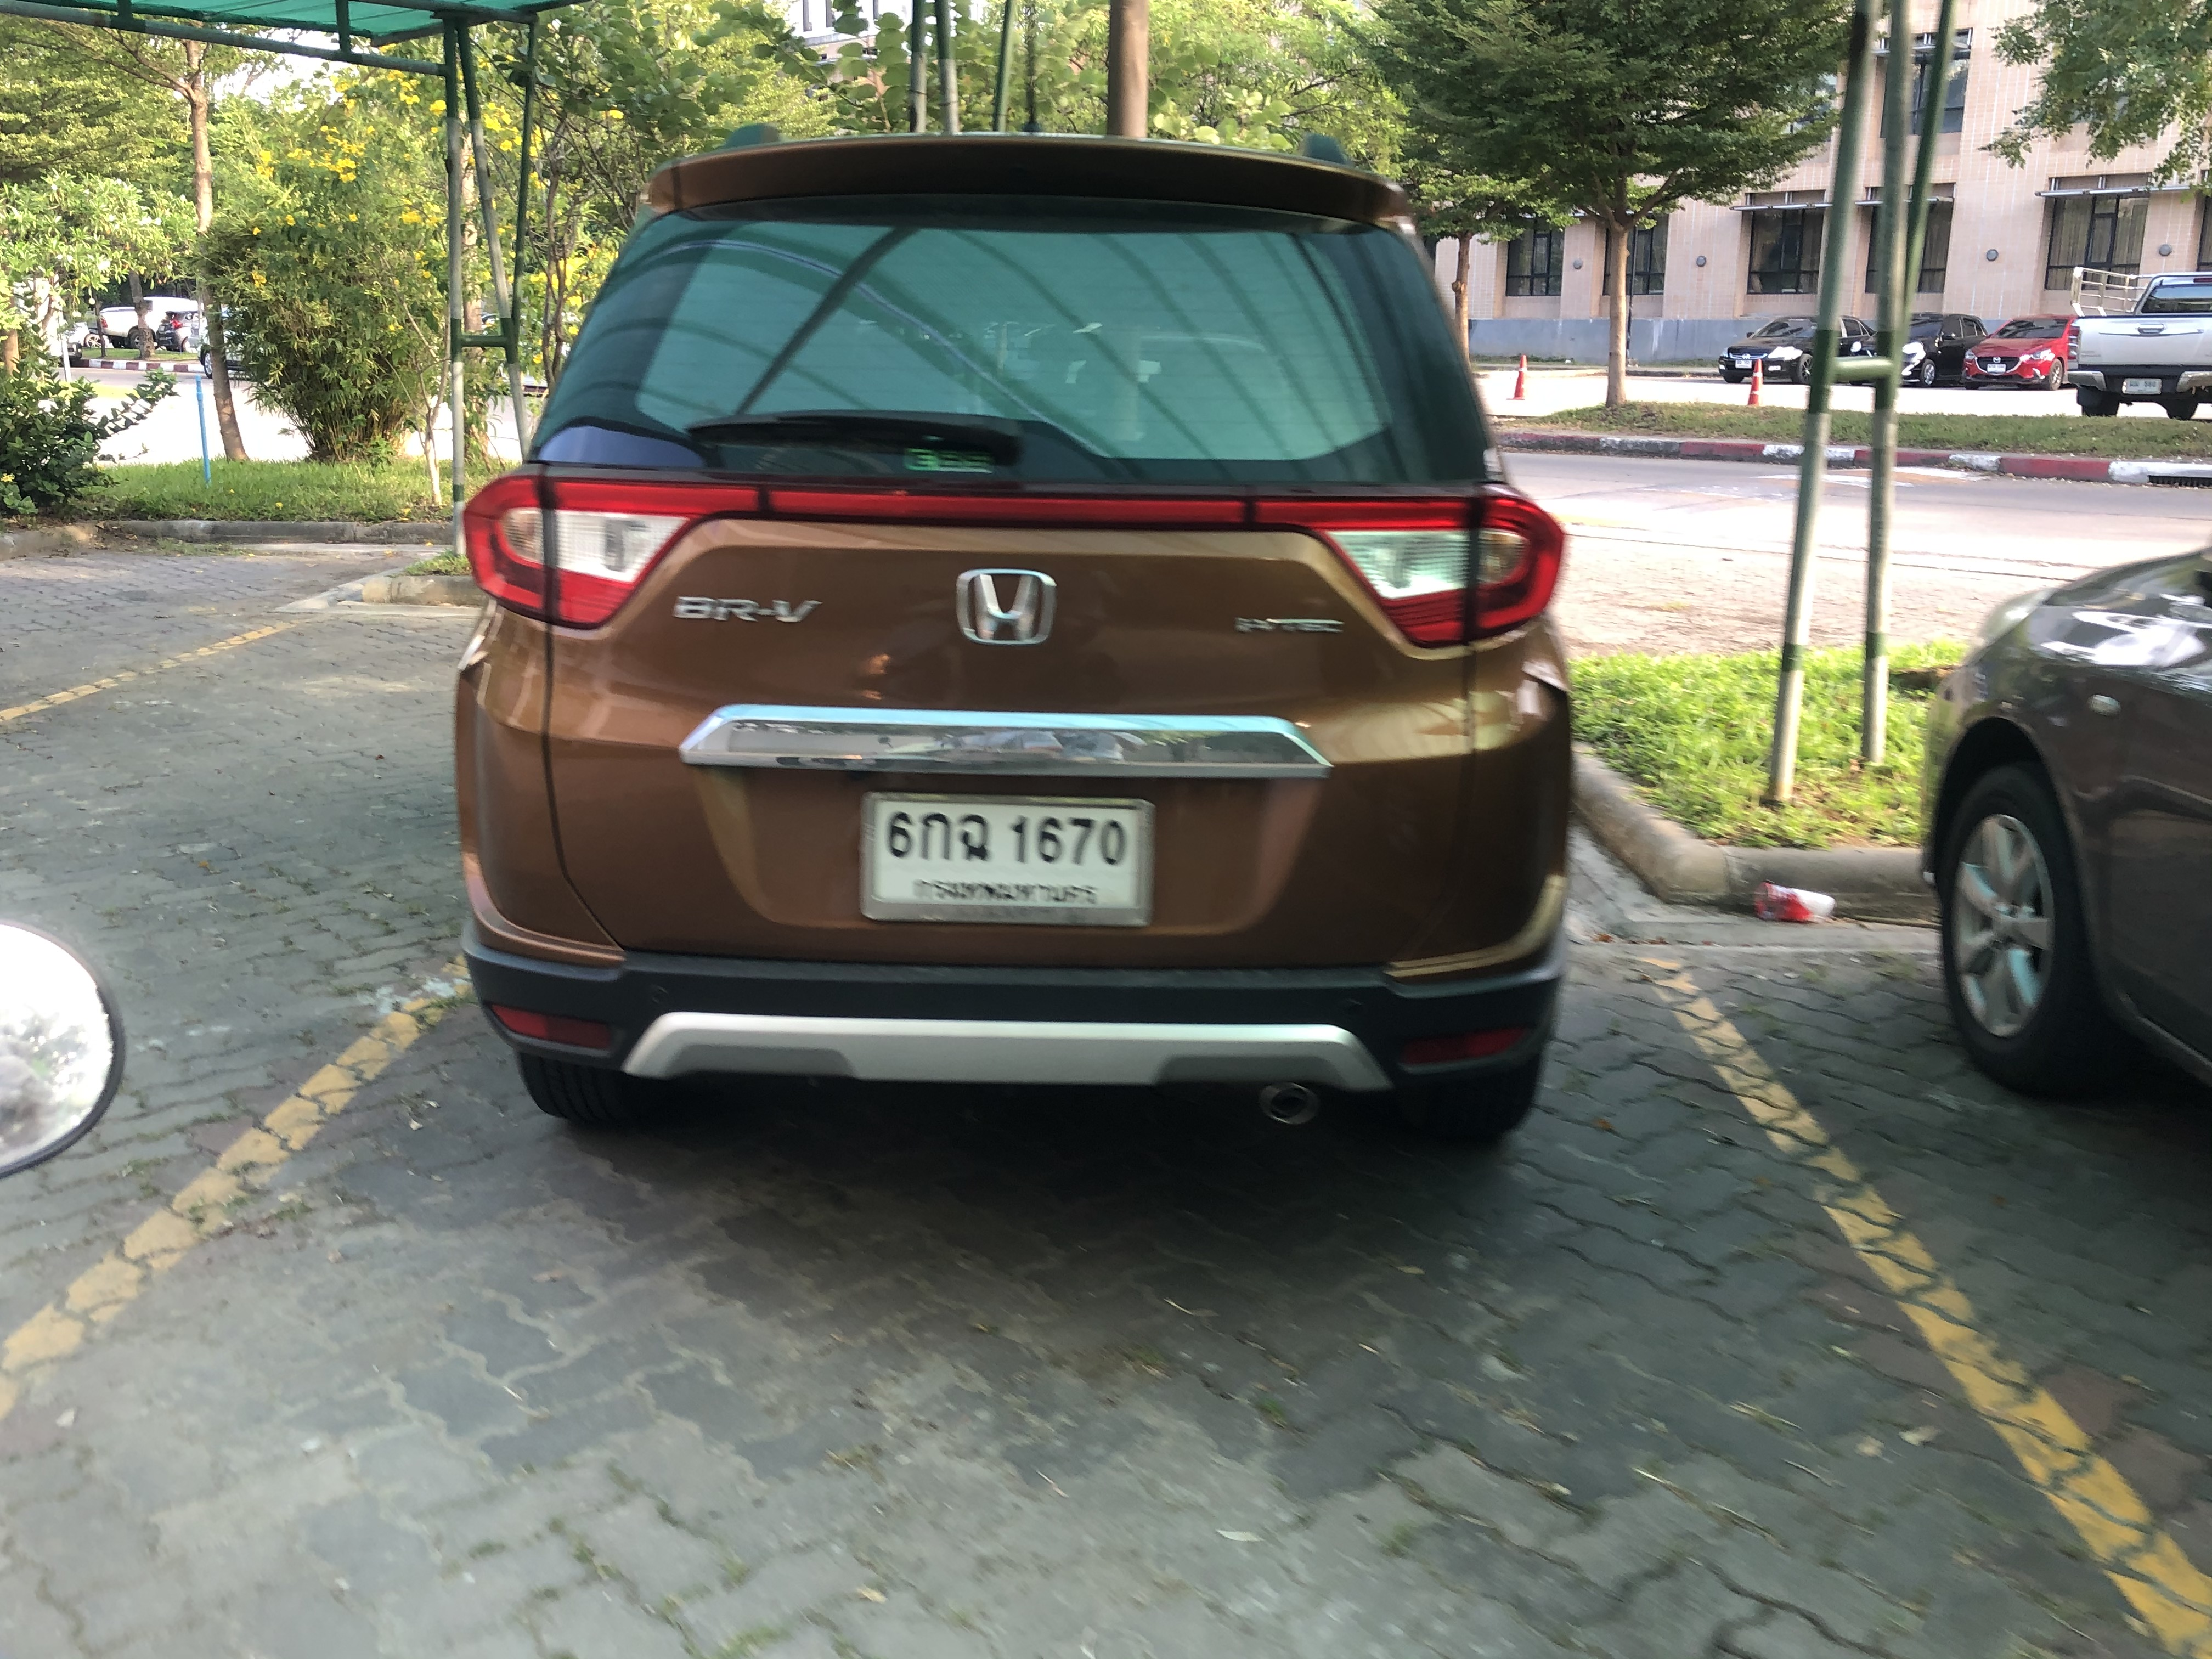in: (874, 803, 1141, 913)
out: (853, 788, 1163, 931)
